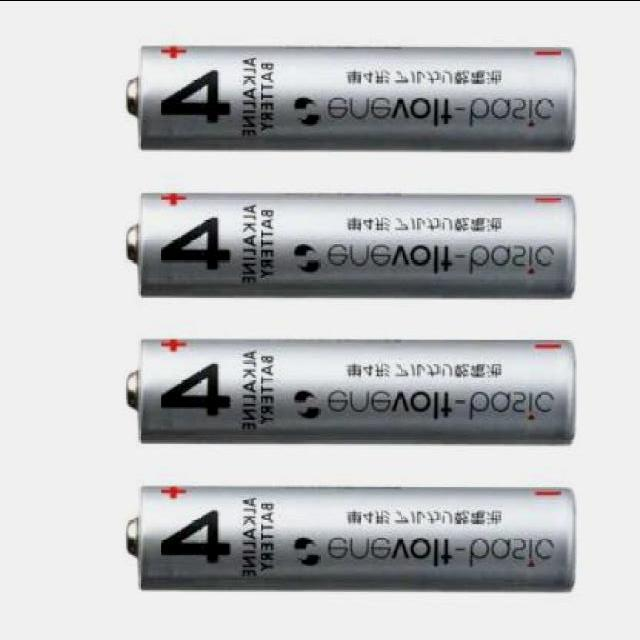AAA: (124, 329, 582, 449), (121, 479, 582, 598), (123, 40, 583, 156), (124, 188, 580, 303)
